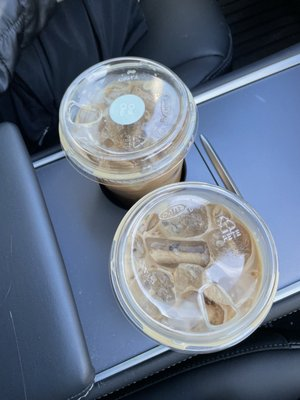sushi: (107, 180, 280, 352)
